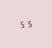five: (19, 20, 25, 28), (26, 19, 32, 27)
